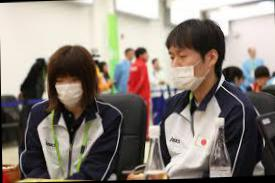OK: (52, 72, 86, 108)
WRONG: (169, 47, 203, 94)
